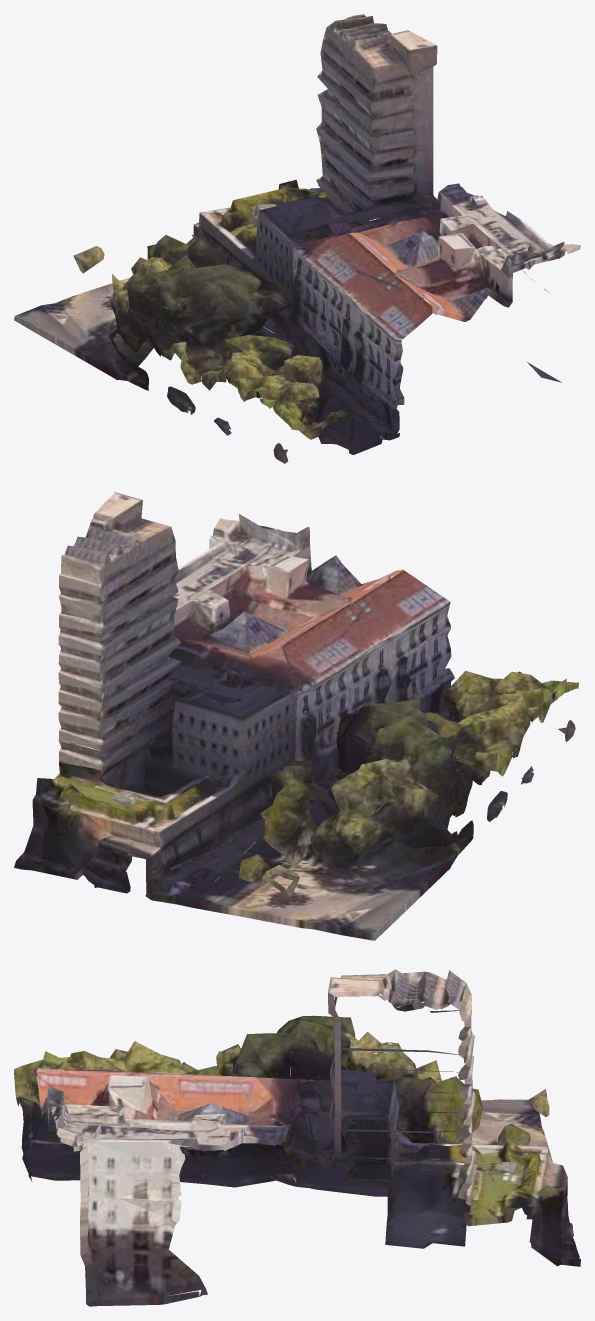
3 renders of one model, top to bottom at view 1: azimuth 30°, elevation 25°; view 2: azimuth 150°, elevation 25°; view 3: azimuth 270°, elevation 25°, orthographic. The views are drawn at different scales.
Visible parts, largest first — view 1: Mesh_0; view 2: Mesh_0; view 3: Mesh_0.
Part boxes in pixels (x1=…): Mesh_0: x1=14, y1=14, x2=580, y2=463; Mesh_0: x1=14, y1=492, x2=578, y2=940; Mesh_0: x1=14, y1=969, x2=580, y2=1306.
Size of the model in its own units: 66.57 by 48.89 by 82.46.
2 materials, 2 textured.
